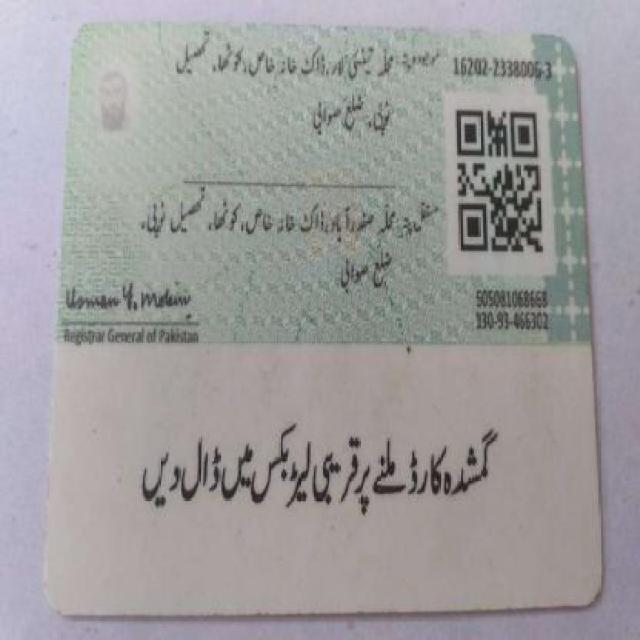Back: (46, 14, 606, 615)
